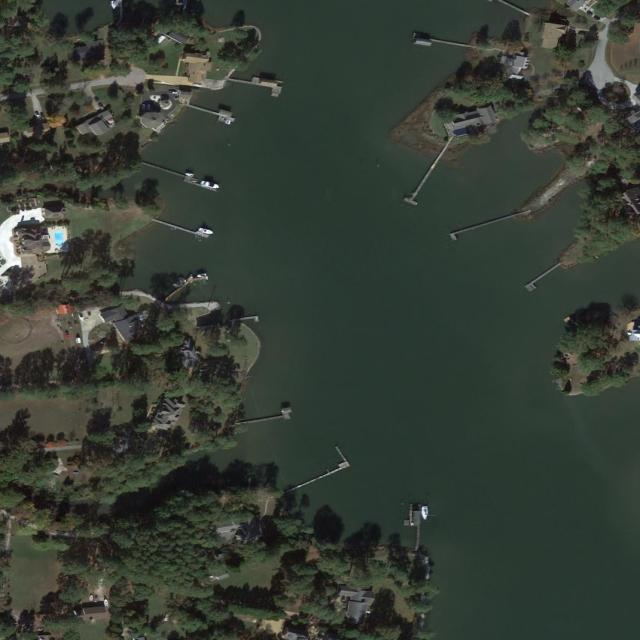ship: (200, 179, 221, 189), (197, 226, 217, 236), (421, 506, 431, 522), (102, 598, 111, 608), (197, 272, 209, 279), (88, 594, 95, 603)
small-vehicle: (73, 319, 81, 328), (68, 322, 74, 331), (170, 91, 180, 95)
